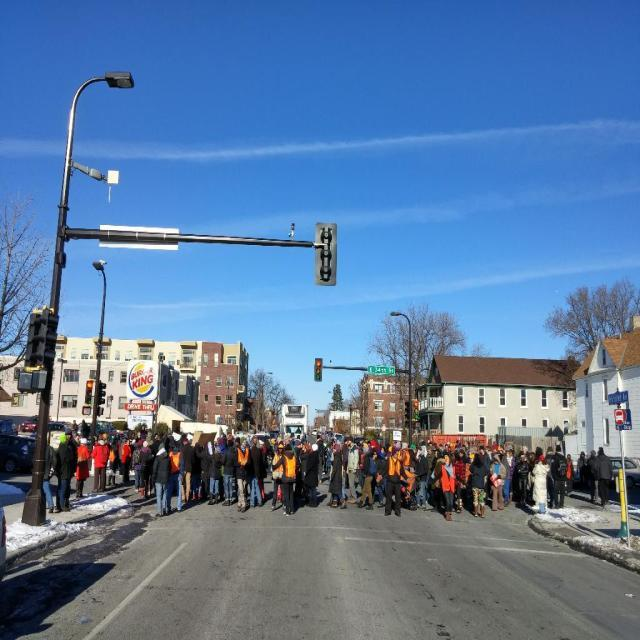traffic light: (315, 358, 321, 381)
